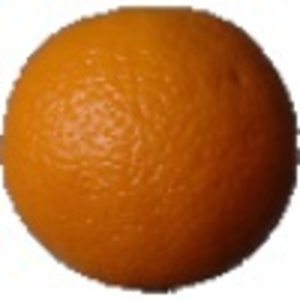laranja: (4, 4, 295, 295)
